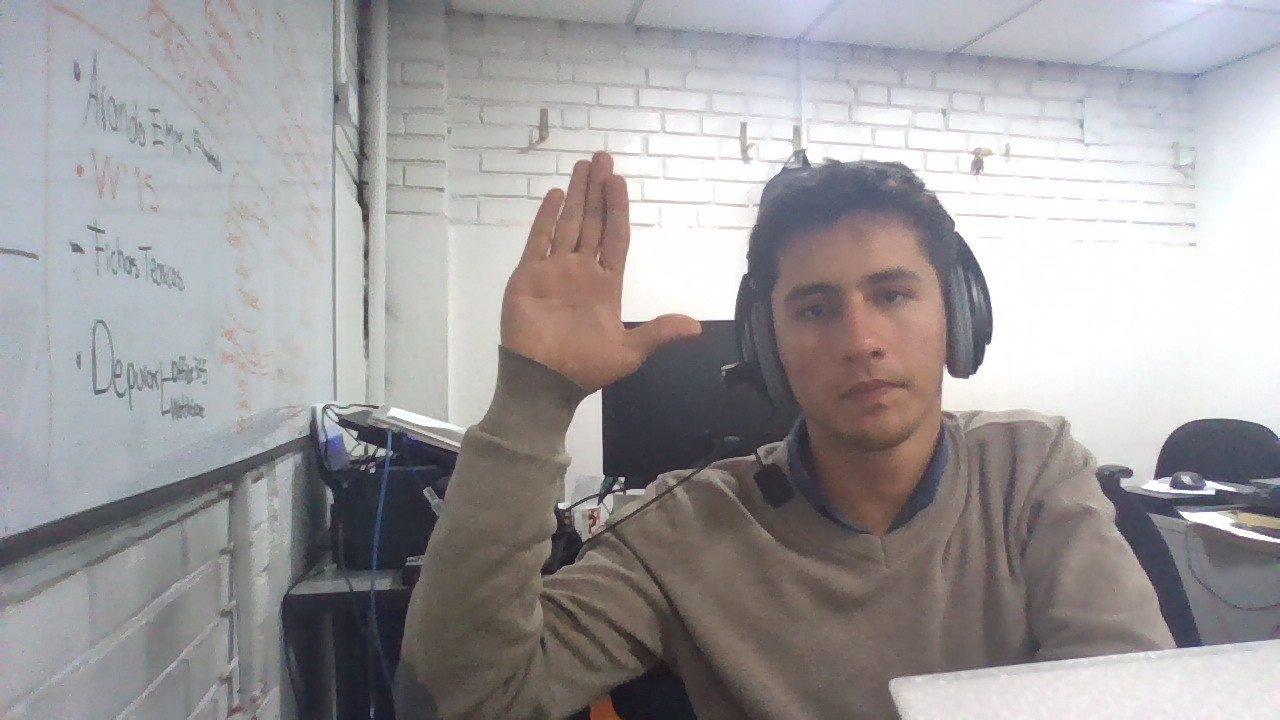hola: (496, 146, 705, 393)
